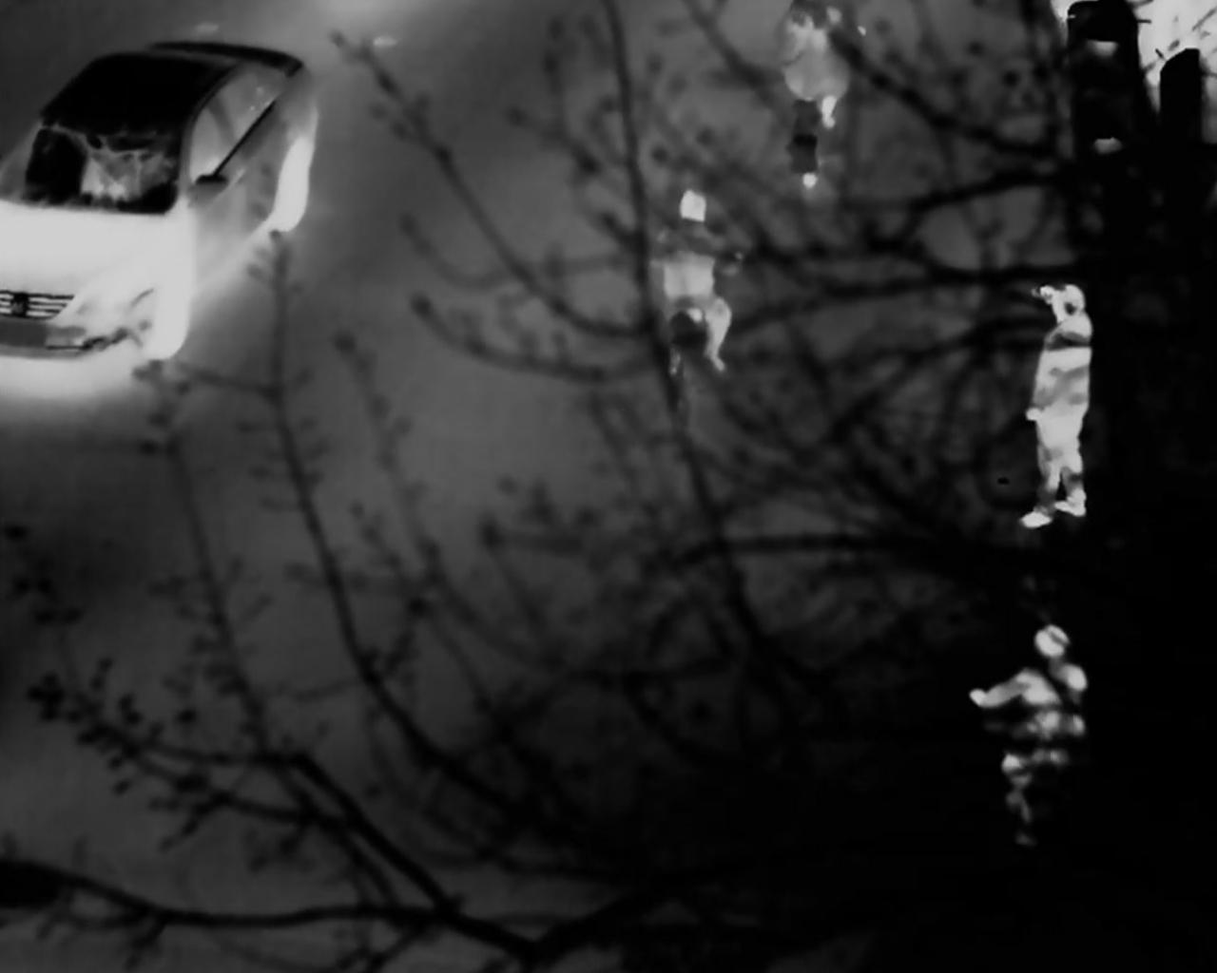person: (1002, 271, 1105, 534), (980, 621, 1082, 812), (664, 188, 733, 375)
